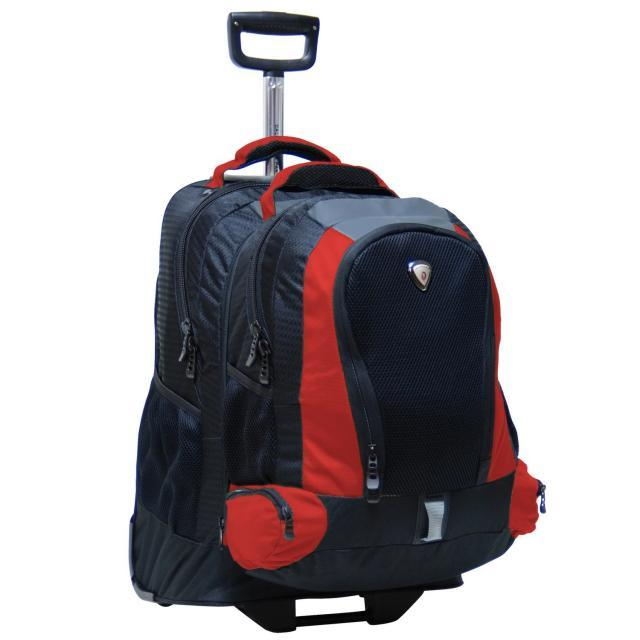Backpacks: (134, 132, 536, 600)
